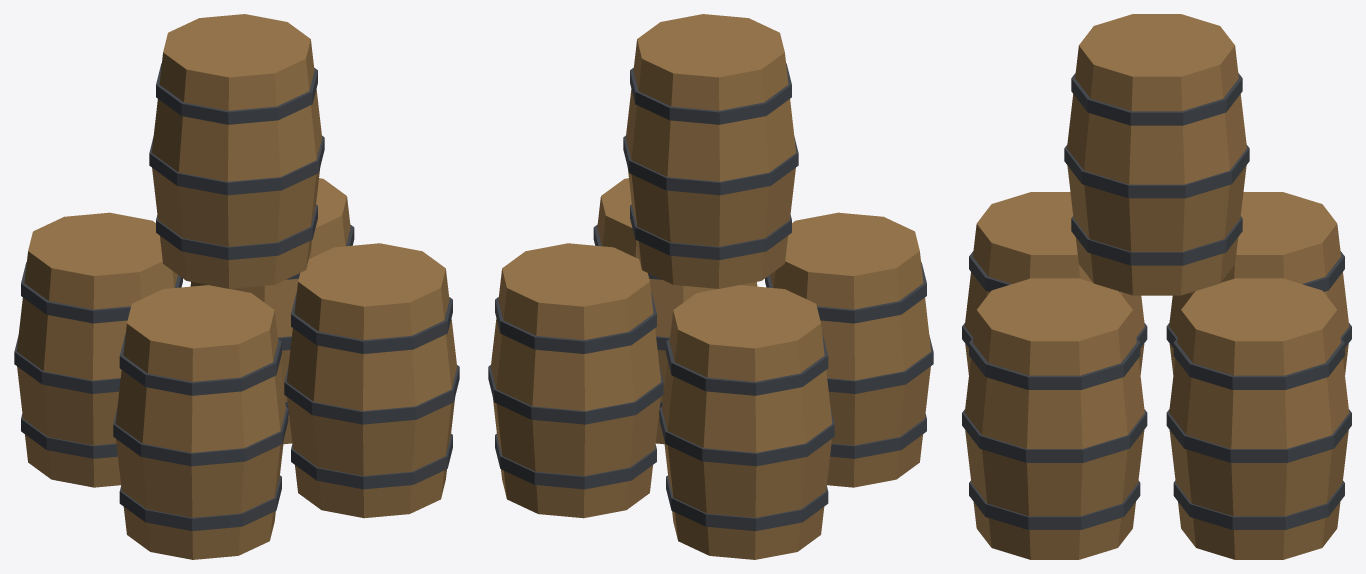
The model's file is pile_wine_3.glb.
The picture shows the model from 3 angles, left to right: view 1: azimuth 30°, elevation 25°; view 2: azimuth 150°, elevation 25°; view 3: azimuth 270°, elevation 25°; orthographic projection. The views are drawn at different scales.
Parts seen in each view (by area): view 1: pile_wine_3; view 2: pile_wine_3; view 3: pile_wine_3.
Part boxes in pixels (x1,y1,x2,y2): pile_wine_3: (14,14,459,559); pile_wine_3: (488,14,933,559); pile_wine_3: (962,14,1351,559).
Bounding box in the file's own units: 1.34 × 1.71 × 1.37.
